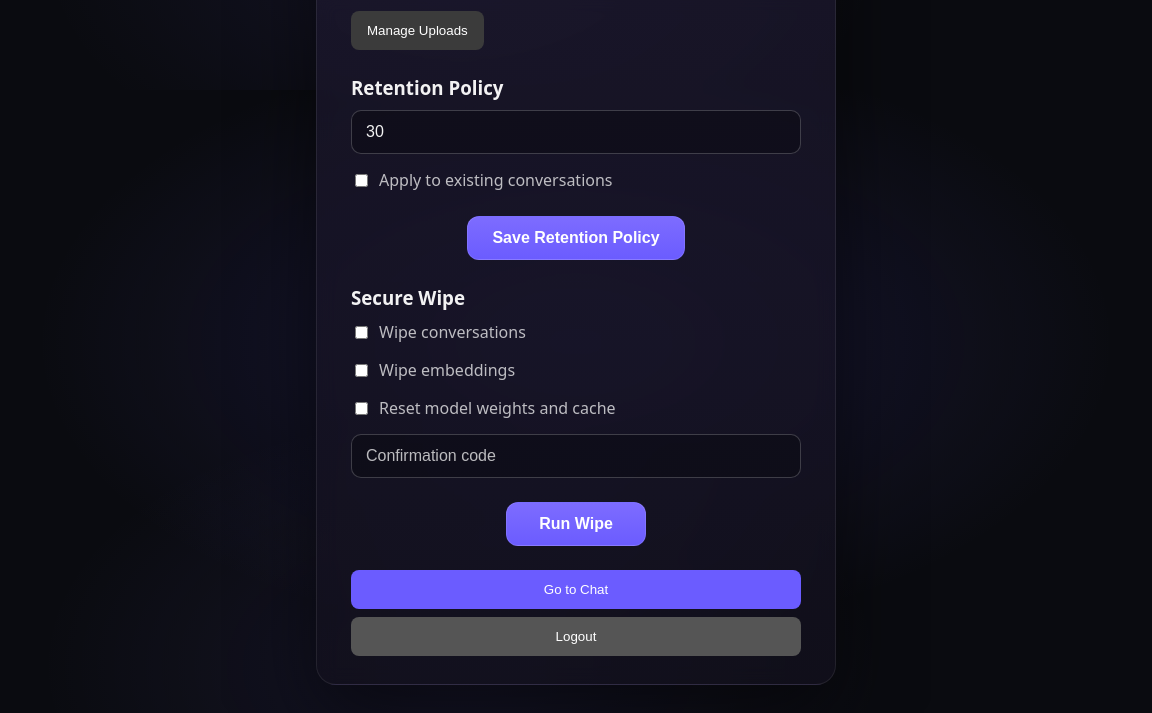
Scenario: Admin › submits model reset requests through the secure wipe form
(page scrolled)
Click the checkbox labelled "Reset model weights and cache". click: click(362, 408)
box: [355, 402, 368, 415]
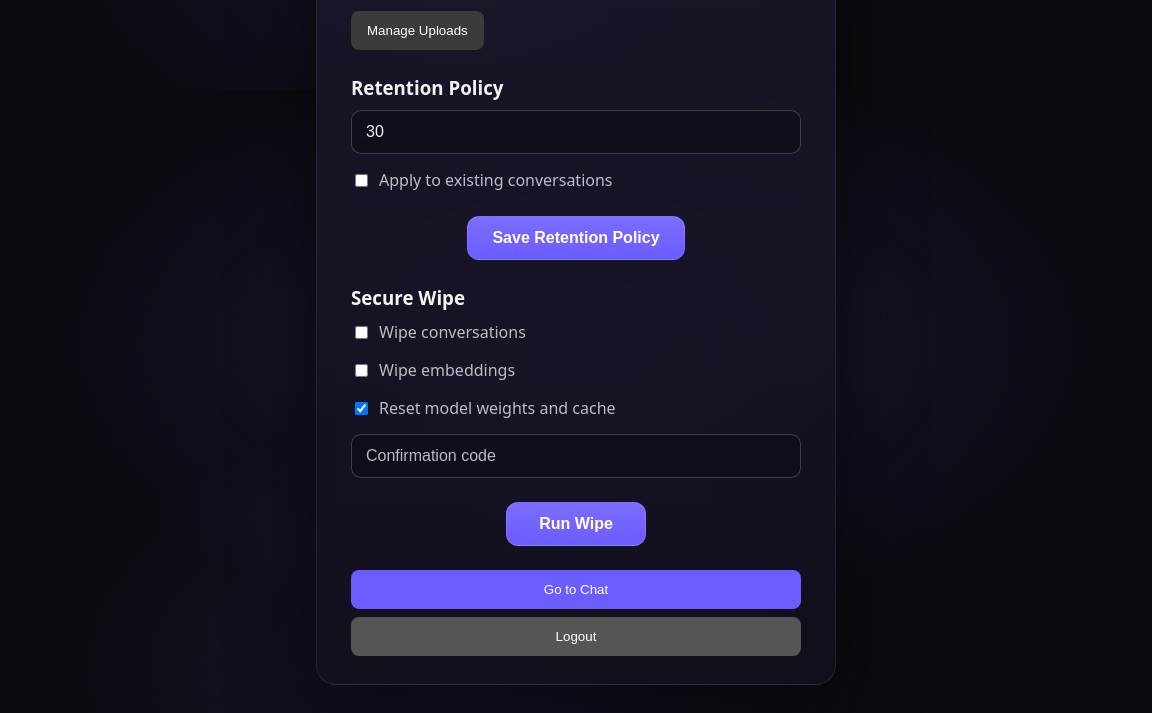
Type "CONFIRM-WIPE" into the field with placeholder "Confirmation code". click: (576, 456)
box: [351, 434, 801, 478]
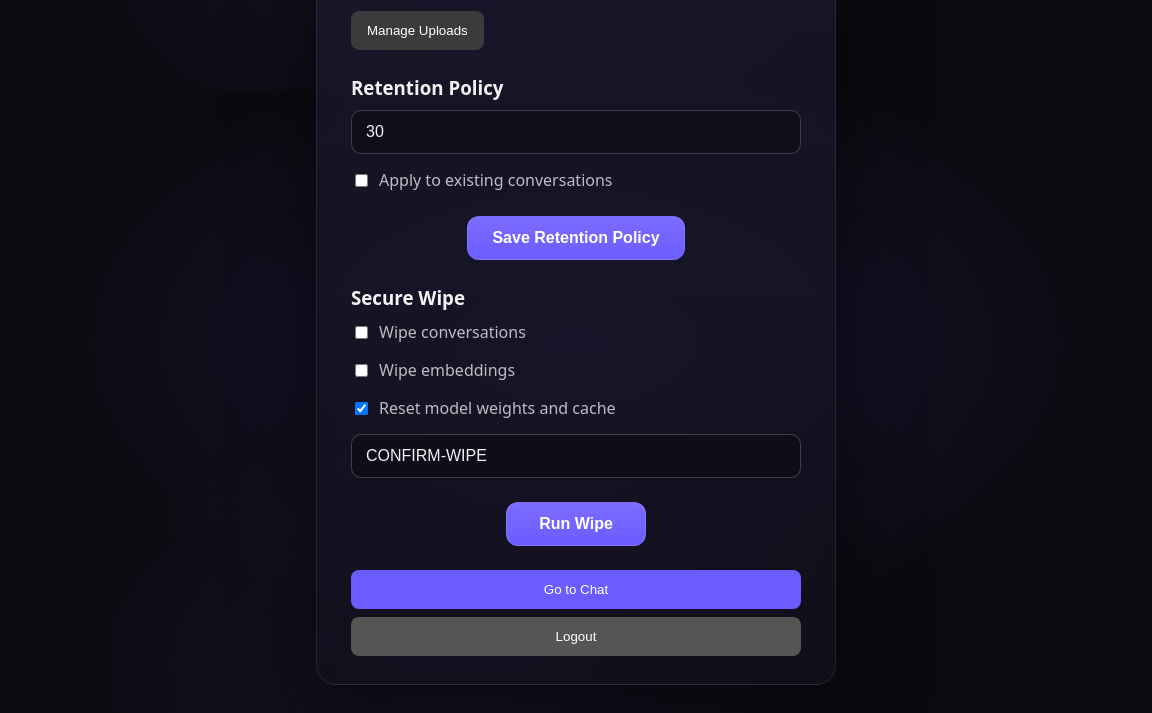
Click the button "Run Wipe". click: click(576, 524)
box: [506, 502, 646, 546]
(page scrolled)
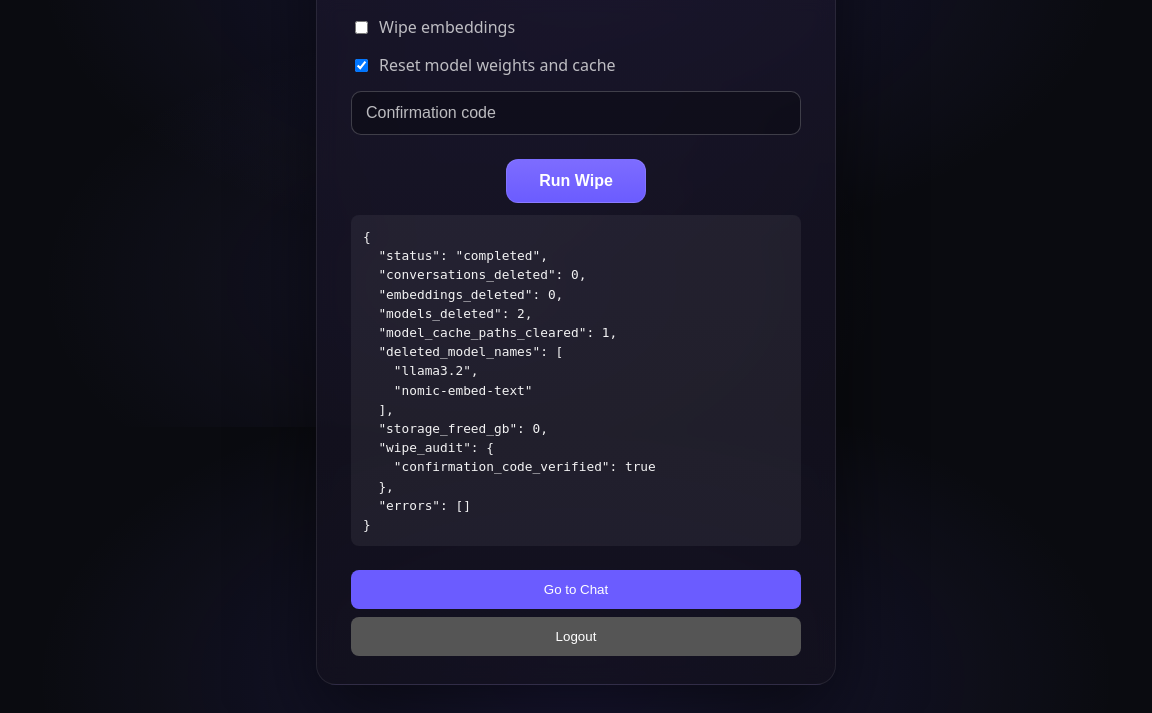
Result: the text "\"models_deleted\": 2" is shown at [363, 229, 656, 532]
